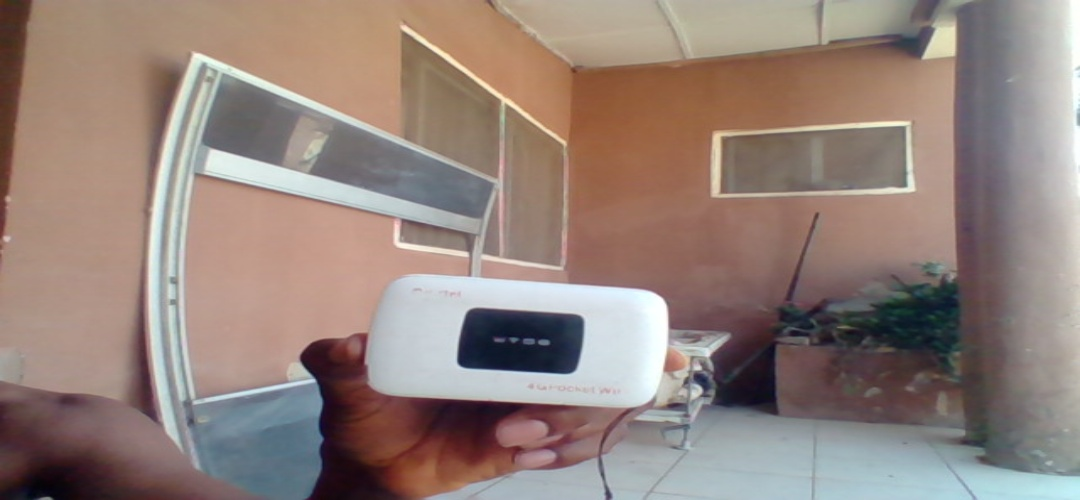mifi: (371, 275, 669, 407)
